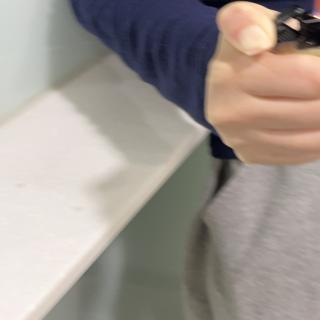fire: (311, 0, 320, 24)
